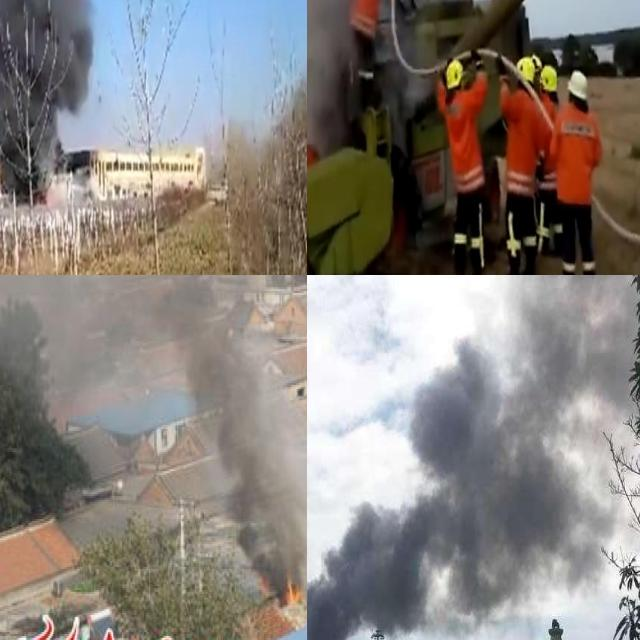fire: (280, 575, 302, 609)
smoke: (307, 275, 640, 640), (0, 275, 307, 584), (0, 0, 94, 210)
